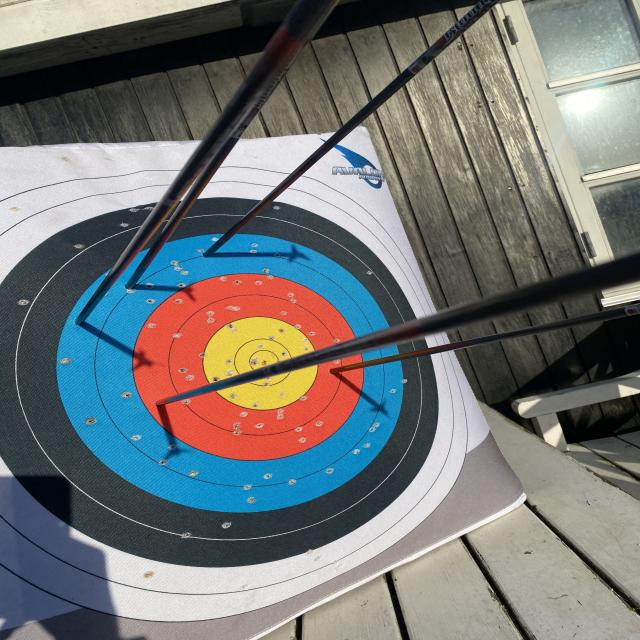Arrow_Blue: (66, 291, 122, 338), (121, 268, 166, 306), (192, 242, 232, 265)
Arrow_Red: (323, 359, 363, 393), (149, 389, 182, 414)
